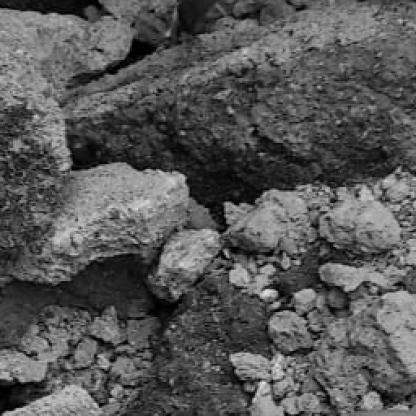cementitious_debris: (0, 0, 414, 414)
